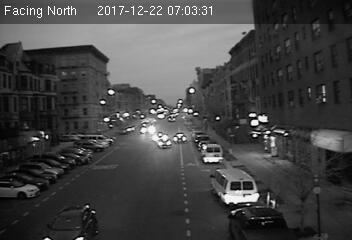car: (41, 201, 101, 240), (172, 132, 188, 144), (157, 136, 172, 147)
truck: (210, 166, 260, 207), (200, 143, 221, 163)
